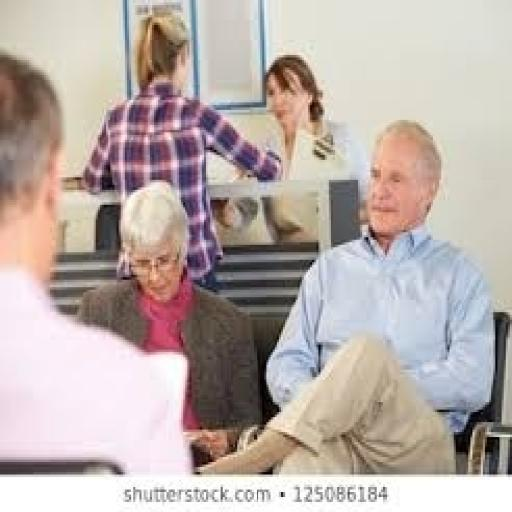sitting: (0, 37, 497, 474), (0, 50, 196, 474), (262, 117, 496, 452), (79, 10, 283, 292), (73, 177, 262, 462)
